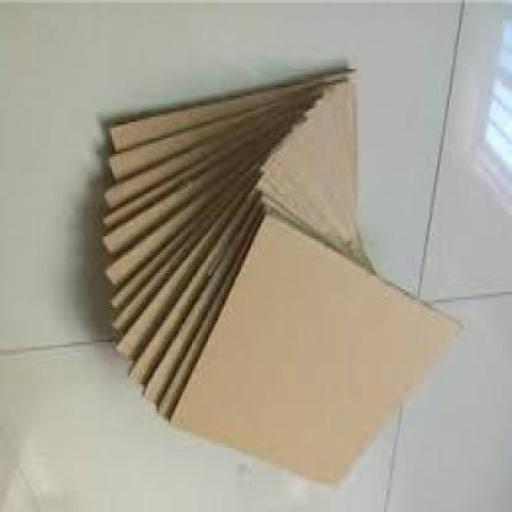cardboard: (100, 72, 459, 490), (166, 216, 459, 494)
